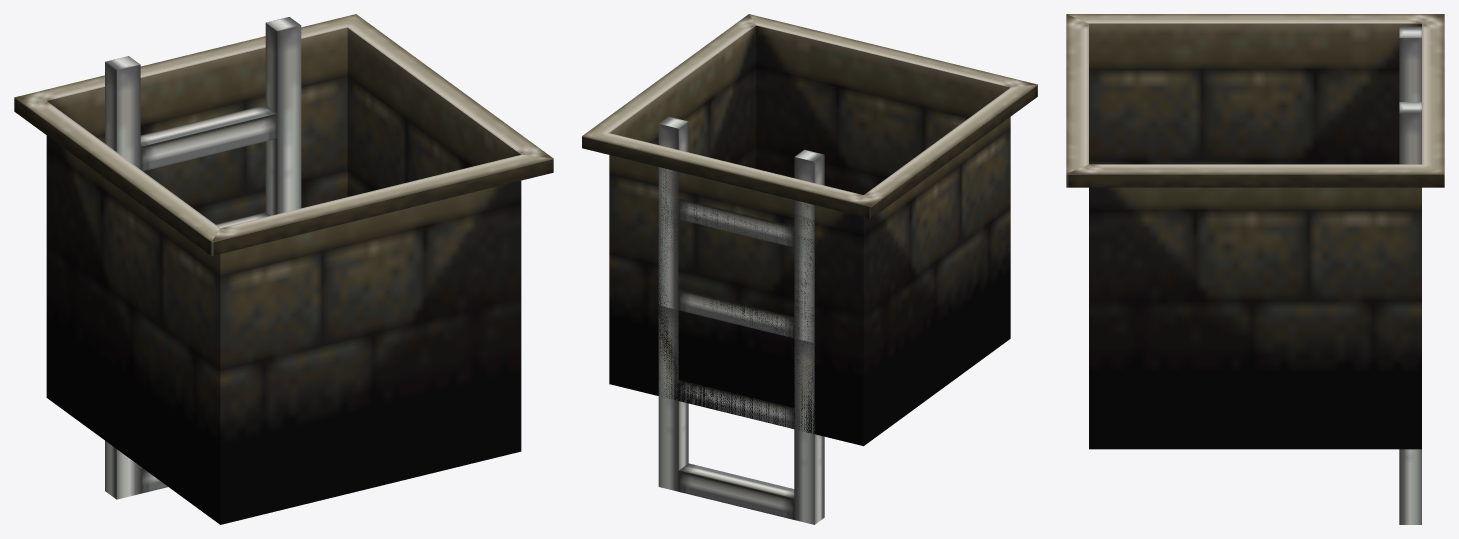
Rendered from Poly_Hole_Ladder_01_Down.obj.
3 renders of one model, left to right at view 1: azimuth 30°, elevation 25°; view 2: azimuth 150°, elevation 25°; view 3: azimuth 270°, elevation 25°, orthographic. The views are drawn at different scales.
Visible parts, largest first — view 1: Cube.002, Cube.001; view 2: Cube.002, Cube.001; view 3: Cube.002, Cube.001.
Boxes of the visible parts, x1,y1,x2,y2 form: Cube.002: (14, 14, 553, 524); Cube.001: (105, 17, 301, 499); Cube.002: (582, 14, 1037, 446); Cube.001: (658, 116, 824, 524); Cube.002: (1066, 14, 1444, 449); Cube.001: (1399, 26, 1421, 524).
Bounding box in the file's own units: 1 × 1.2 × 1.
Materials: 1 (1 with a texture image).
